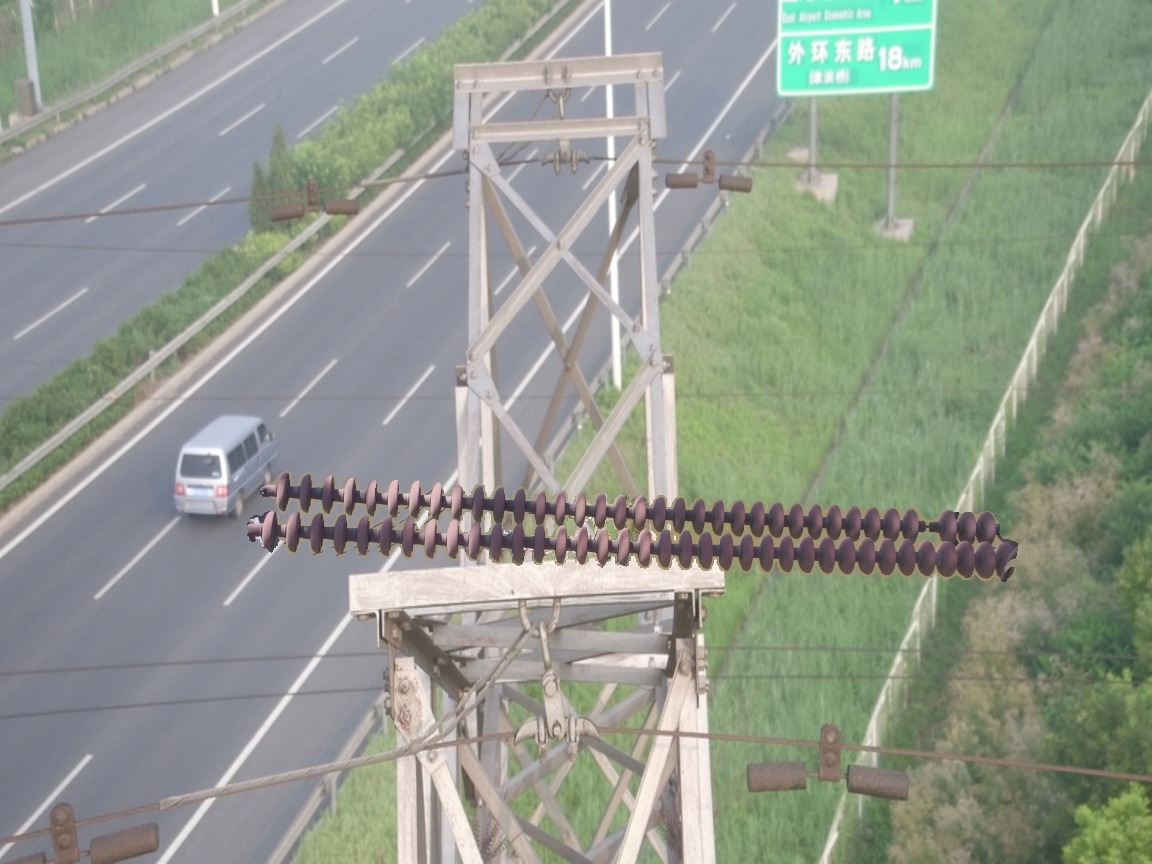defect: (899, 506, 961, 540)
